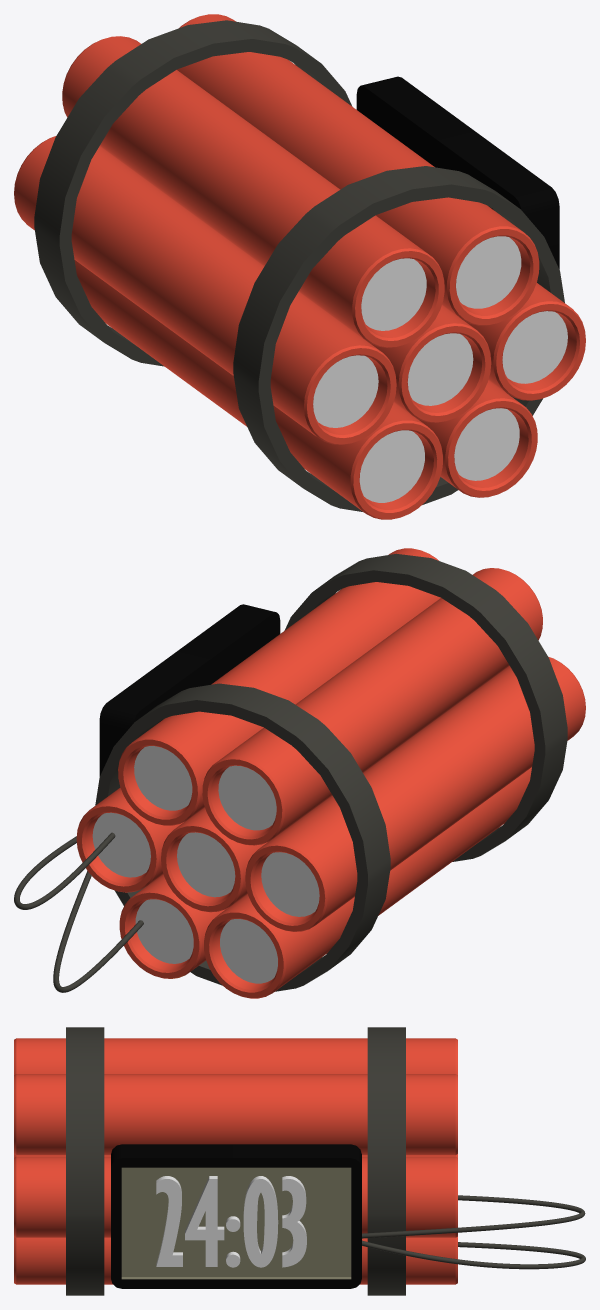
Rendered from dinamit.fbx.
The picture shows the model from 3 angles, top to bottom: view 1: azimuth 30°, elevation 25°; view 2: azimuth 150°, elevation 25°; view 3: azimuth 270°, elevation 25°; orthographic projection. The views are drawn at different scales.
Parts seen in each view (by area): view 1: Cylinder, Circle, Cube; view 2: Cylinder, Circle, Cube, NurbsPath, NurbsPath.005; view 3: Cylinder, Cube, Circle, Text, NurbsPath, NurbsPath.005.
Part boxes in pixels (x1,y1,x2,y2): Cylinder: (14, 14, 585, 519); Circle: (34, 20, 564, 512); Cube: (356, 76, 559, 269); Cylinder: (76, 548, 585, 998); Circle: (95, 553, 567, 991); Cube: (99, 604, 280, 776); NurbsPath: (53, 871, 143, 992); NurbsPath.005: (14, 832, 115, 909); Cylinder: (14, 1038, 457, 1284); Cube: (111, 1144, 361, 1288); Circle: (66, 1027, 405, 1295); Text: (156, 1176, 306, 1267); NurbsPath: (362, 1240, 585, 1269); NurbsPath.005: (362, 1195, 585, 1238).
Bounding box in the file's own units: 232 × 213 × 455.
